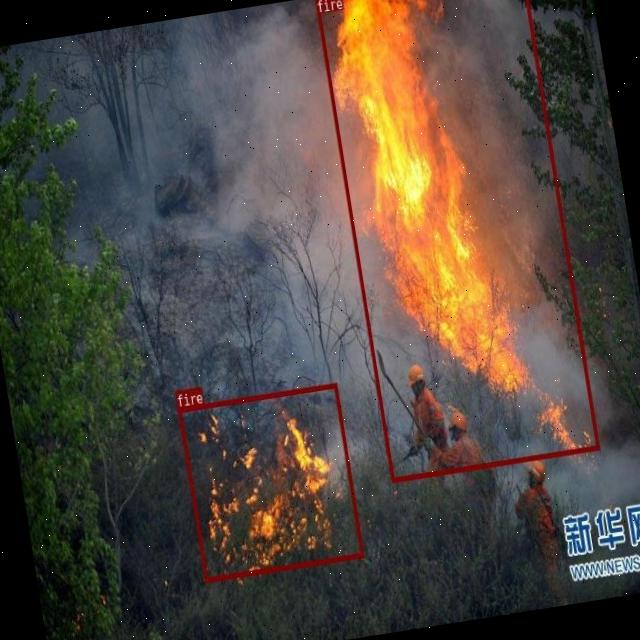fire: (314, 0, 598, 481), (178, 382, 364, 581)
